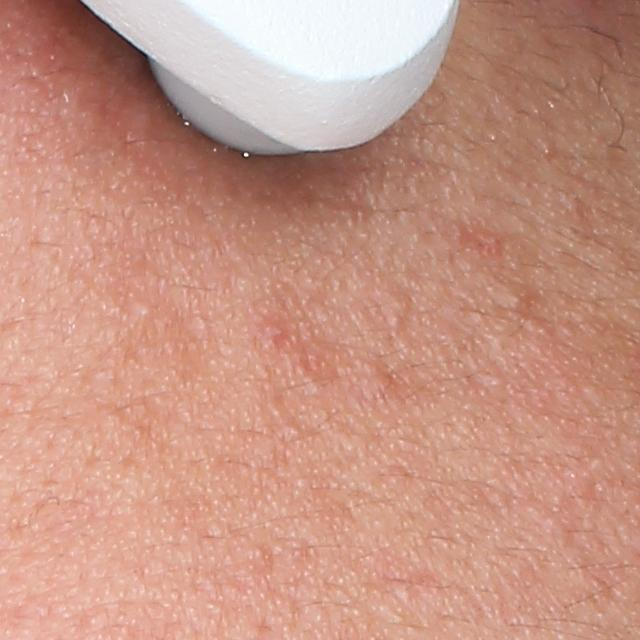comedo: (489, 284, 531, 314), (132, 296, 160, 325)
